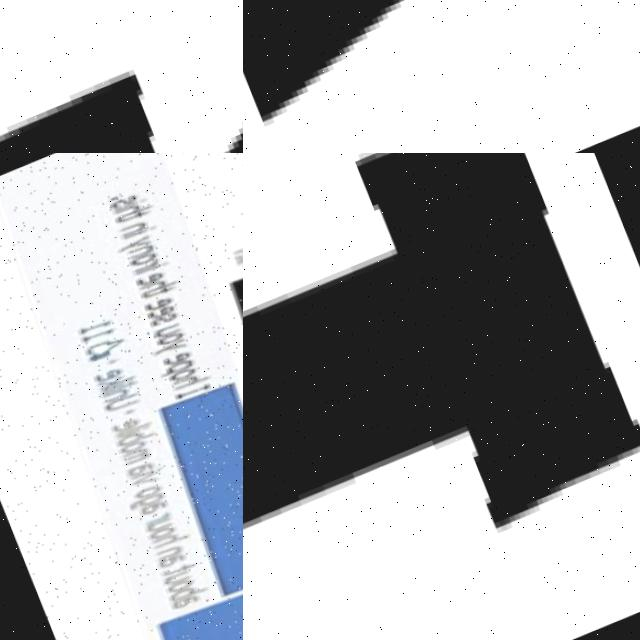1: (78, 324, 115, 346), (75, 316, 112, 338)
L: (243, 0, 640, 145)
T: (243, 153, 640, 640)
Z: (0, 0, 243, 153)
